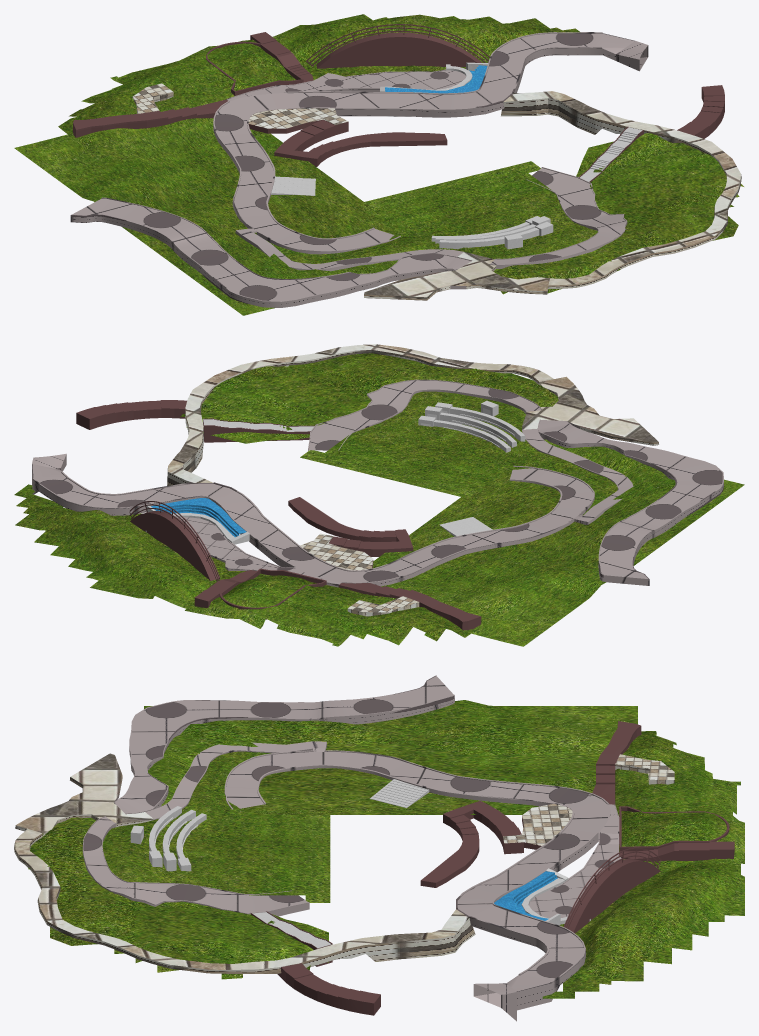
Rendered from Others.fbx.
3 views of the same model, one above another, from view 1: azimuth 30°, elevation 25°; view 2: azimuth 150°, elevation 25°; view 3: azimuth 270°, elevation 25° (orthographic). The views are drawn at different scales.
Visible parts, largest first — view 1: Loft001, Plane005, Plane008, Plane003, Plane004, Glow002, Box029, Object008, Box015, Object011, Object009, Box026 (+8 smaller); view 2: Loft001, Plane005, Plane008, Plane004, Plane003, Glow002, Box029, Box015, Object008, Box026, Object011, Box003 (+10 smaller); view 3: Loft001, Plane005, Plane008, Plane004, Plane003, Glow002, Object008, Box015, Box029, Box026, Object011, Object009 (+7 smaller).
Boxes of the visible parts, x1,y1,x2,y2 form: Loft001: [70, 32, 634, 307]; Plane005: [14, 118, 403, 315]; Plane008: [58, 14, 580, 135]; Plane003: [493, 133, 743, 294]; Plane004: [266, 161, 597, 271]; Glow002: [364, 91, 741, 300]; Box029: [306, 24, 489, 68]; Object008: [226, 41, 648, 100]; Box015: [248, 119, 447, 166]; Object011: [72, 99, 227, 137]; Object009: [248, 108, 348, 128]; Box026: [677, 85, 724, 138]; Loft001: [32, 379, 723, 586]; Plane005: [372, 439, 744, 646]; Plane008: [14, 484, 475, 646]; Plane004: [300, 391, 617, 513]; Plane003: [180, 353, 558, 443]; Glow002: [167, 344, 658, 485]; Box029: [129, 501, 220, 581]; Box015: [288, 497, 413, 568]; Object008: [32, 453, 340, 587]; Box026: [76, 400, 186, 429]; Object011: [338, 583, 481, 630]; Box003: [203, 418, 314, 442]; Loft001: [82, 675, 610, 1010]; Plane005: [144, 700, 637, 814]; Plane008: [542, 731, 744, 998]; Plane004: [102, 751, 330, 902]; Plane003: [28, 817, 328, 979]; Glow002: [14, 753, 475, 973]; Object008: [473, 804, 621, 1021]; Box015: [420, 800, 541, 887]; Box029: [563, 847, 661, 933]; Box026: [277, 963, 380, 1015]; Object011: [592, 721, 641, 804]; Object009: [503, 804, 572, 845].
Bounding box in the file's own units: 8114 × 843 × 7659.
